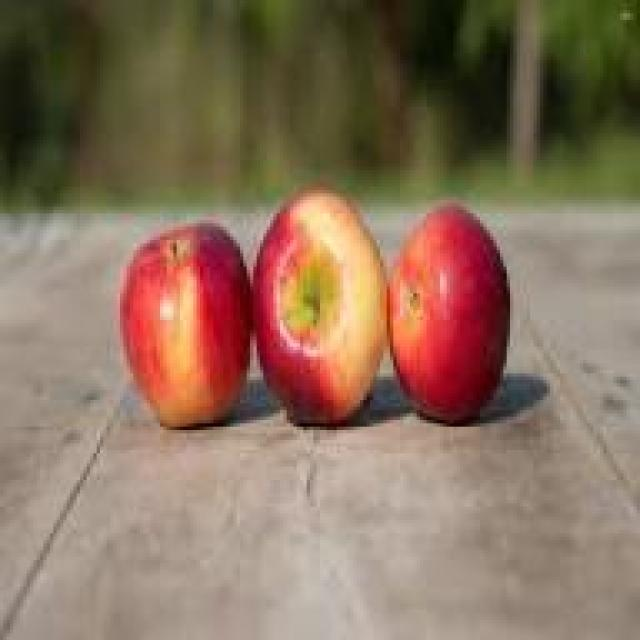apple: (253, 190, 387, 427), (384, 183, 514, 427), (116, 220, 246, 430)
